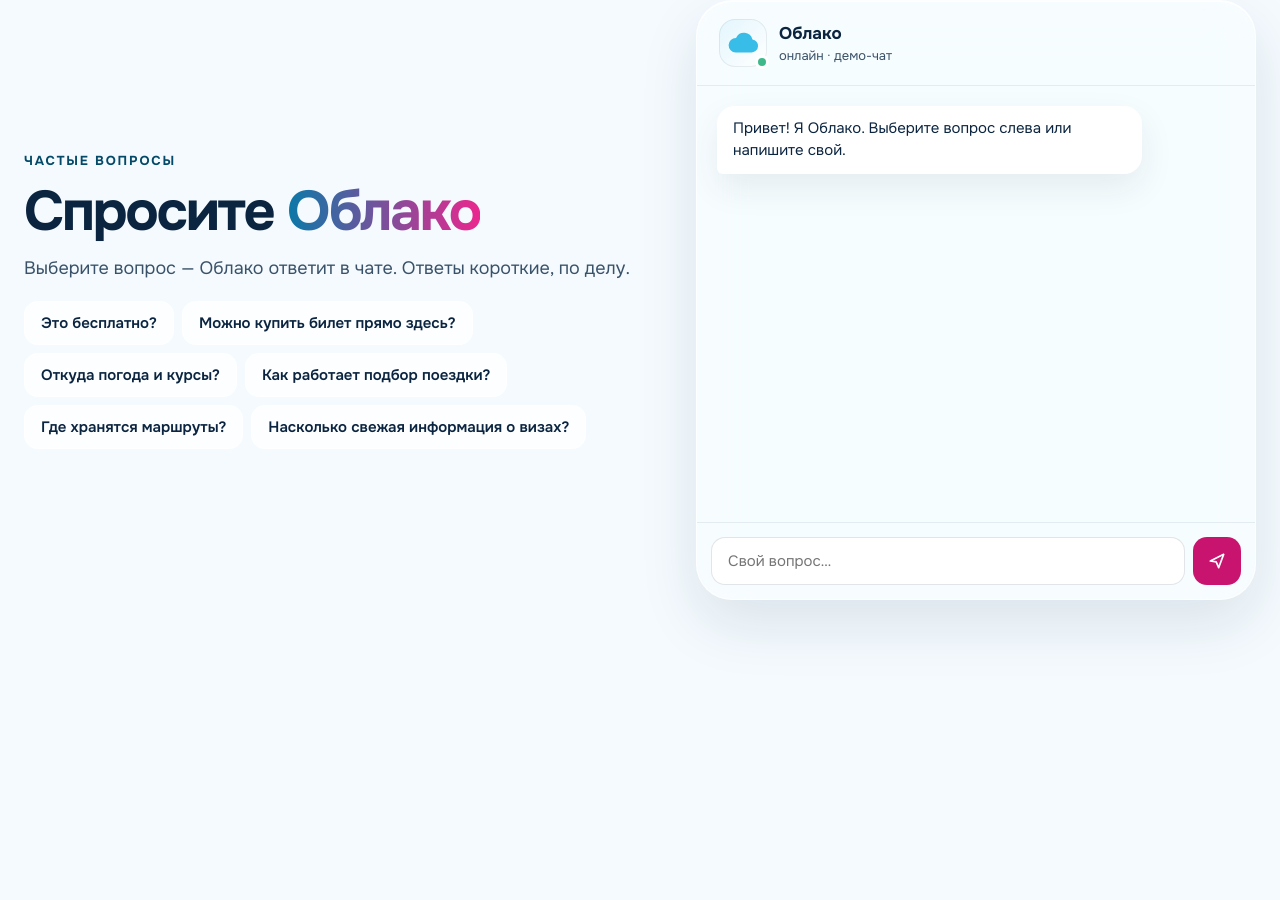
Test: FaqChat › answers after typing and disables the asked chip
The width and height of the screenshot is (1280, 900).
Later steps or results of the test are not shown.
Step 1. Click the button "Это бесплатно?" → [99, 323], box x1=24 y1=301 x2=174 y2=345
Wait 1200 ms
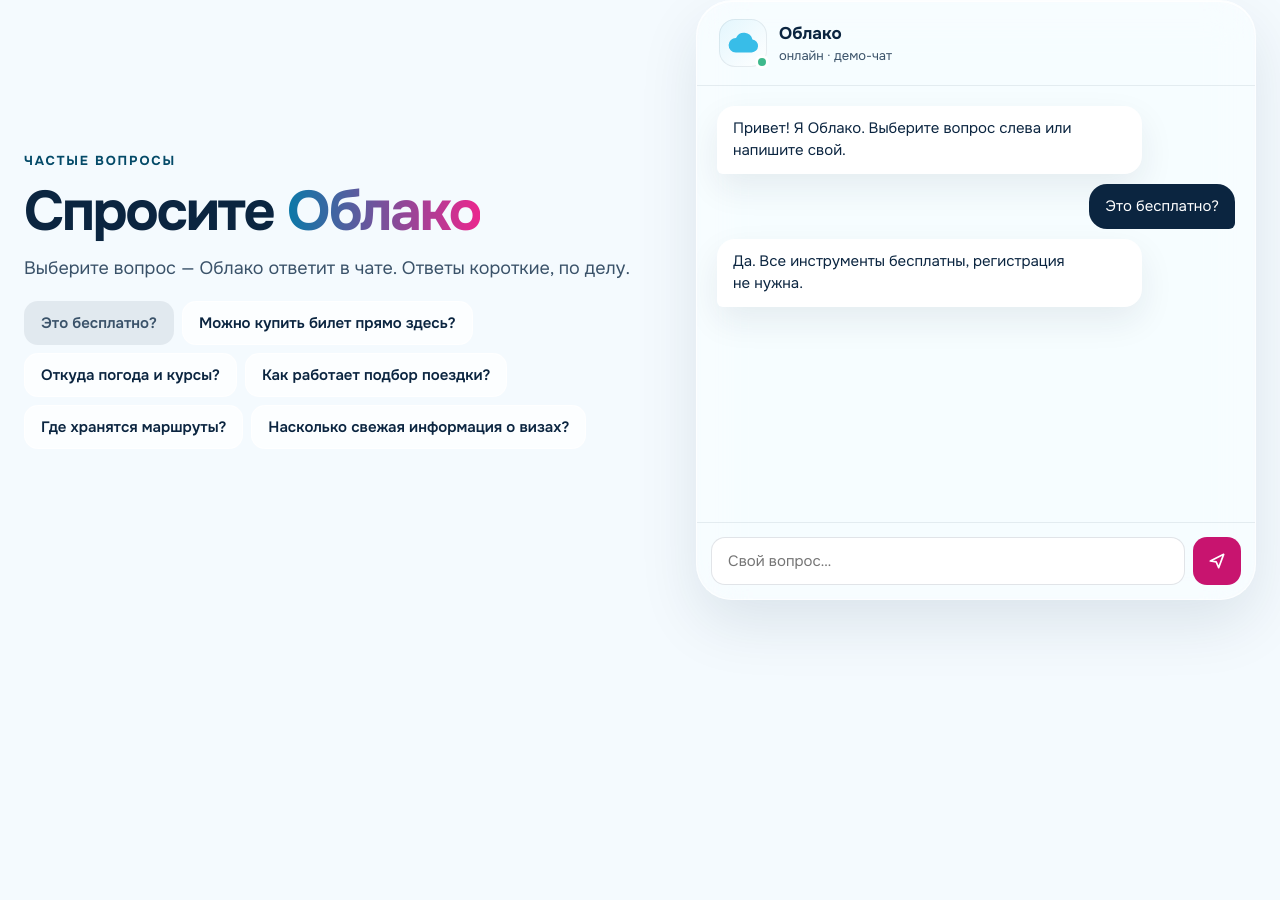
Expected: the element named "Переписка" shows "Все инструменты бесплатны", x1=733 y1=251 x2=1065 y2=293
